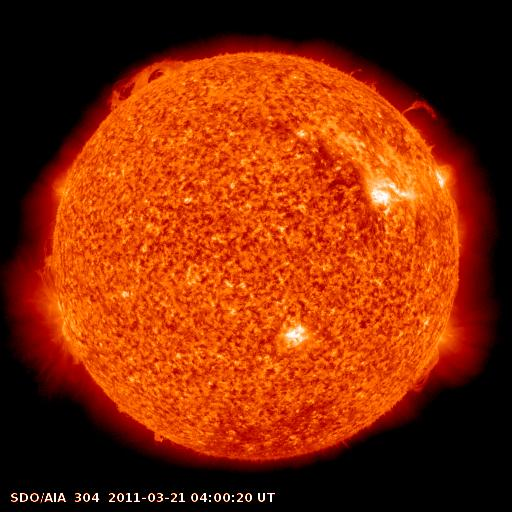prominence: (102, 50, 200, 113), (387, 82, 440, 158), (399, 340, 452, 399), (34, 233, 60, 291), (136, 423, 179, 455)
